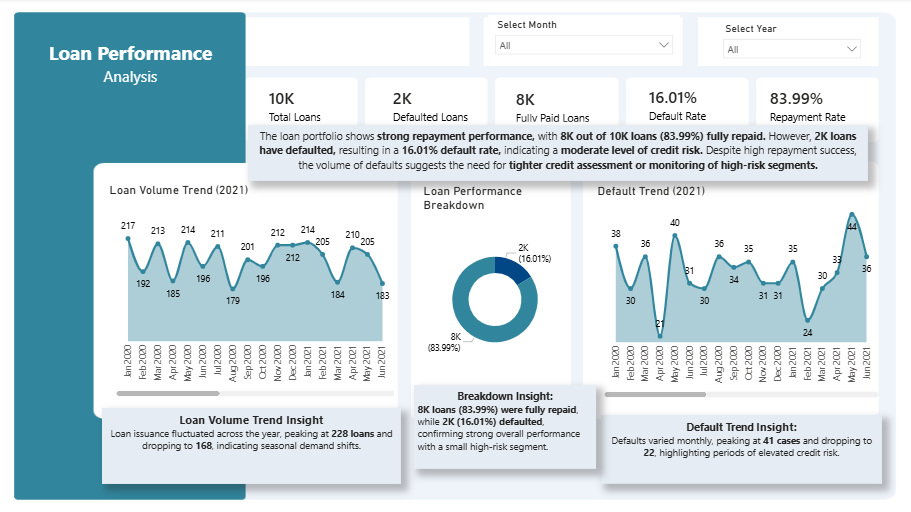

This screenshot's page, from the dashboard's own definition file:
{"tool":"powerbi","page":{"name":"Loans Performance Analysis","canvas":[1280,720],"ordinal":0},"visuals":[{"type":"cardVisual","fields":{"Data":["loan_analysis.Total Loans"]},"box":[351.6,104.7,142.3,90.7],"z":0},{"type":"cardVisual","fields":{"Data":["loan_analysis.Defaulted Loans"]},"box":[524.7,103.3,171.6,93.5],"z":1000},{"type":"cardVisual","fields":{"Data":["loan_analysis.Fully Paid Loans"]},"box":[696.3,111.6,164.7,78.1],"z":2000},{"type":"cardVisual","fields":{"Data":["loan_analysis.Default Rate"]},"box":[881.9,99.1,153.5,97.7],"z":3000},{"type":"cardVisual","fields":{"Data":["loan_analysis.Repayment Rate"]},"box":[1050.7,104.7,166,90.7],"z":4000},{"type":"lineChart","title":"Loan Volume Trend (2021)","fields":{"Category":["loan_analysis.Month Display"],"Y":["loan_analysis.Total Loans"]},"box":[153.5,258.1,407.4,302.8],"z":5000},{"type":"lineChart","title":"Default Trend (2021)","fields":{"Category":["loan_analysis.Month Display"],"Y":["loan_analysis.Defaulted Loans"]},"box":[834.4,259.5,401.9,302.8],"z":6000},{"type":"donutChart","title":"Loan Performance Breakdown","fields":{"Y":["loan_analysis.Not Fully Paid Loans","loan_analysis.Fully Paid Loans"]},"box":[591.6,259.5,209.3,280.5],"z":7000},{"type":"slicer","fields":{"Values":["loan_analysis.Loan Date.Variation.Date Hierarchy.Year"]},"box":[1004.7,29.3,212.1,58.6],"z":8000},{"type":"slicer","fields":{"Values":["loan_analysis.Month Display"]},"box":[686.5,23.7,267.9,69.8],"z":9000},{"type":"textbox","box":[65.6,53,244.2,80.9],"z":10000},{"type":"textbox","box":[351.6,177.2,865.1,78.1],"z":11000},{"type":"textbox","box":[147.9,572.1,417.2,106],"z":12000},{"type":"textbox","box":[844.2,581.9,392.1,96.3],"z":13000},{"type":"textbox","box":[583.3,540,254,117.2],"z":14000}]}

Visuals, with their boxes in screenshot pixels (x1, y1, x2, y2), scaled from the page's 1280x720 canvas onto the 911x512 screenshot:
cardVisual - loan_analysis.Total Loans: crop(250, 74, 352, 139)
cardVisual - loan_analysis.Defaulted Loans: crop(373, 73, 496, 140)
cardVisual - loan_analysis.Fully Paid Loans: crop(496, 79, 613, 135)
cardVisual - loan_analysis.Default Rate: crop(628, 70, 737, 140)
cardVisual - loan_analysis.Repayment Rate: crop(748, 74, 866, 139)
"Loan Volume Trend (2021)" lineChart: crop(109, 184, 399, 399)
"Default Trend (2021)" lineChart: crop(594, 185, 880, 400)
"Loan Performance Breakdown" donutChart: crop(421, 185, 570, 384)
slicer - loan_analysis.Loan Date.Variation.Date Hierarchy.Year: crop(715, 21, 866, 63)
slicer - loan_analysis.Month Display: crop(489, 17, 679, 66)
textbox: crop(47, 38, 220, 95)
textbox: crop(250, 126, 866, 182)
textbox: crop(105, 407, 402, 482)
textbox: crop(601, 414, 880, 482)
textbox: crop(415, 384, 596, 467)
